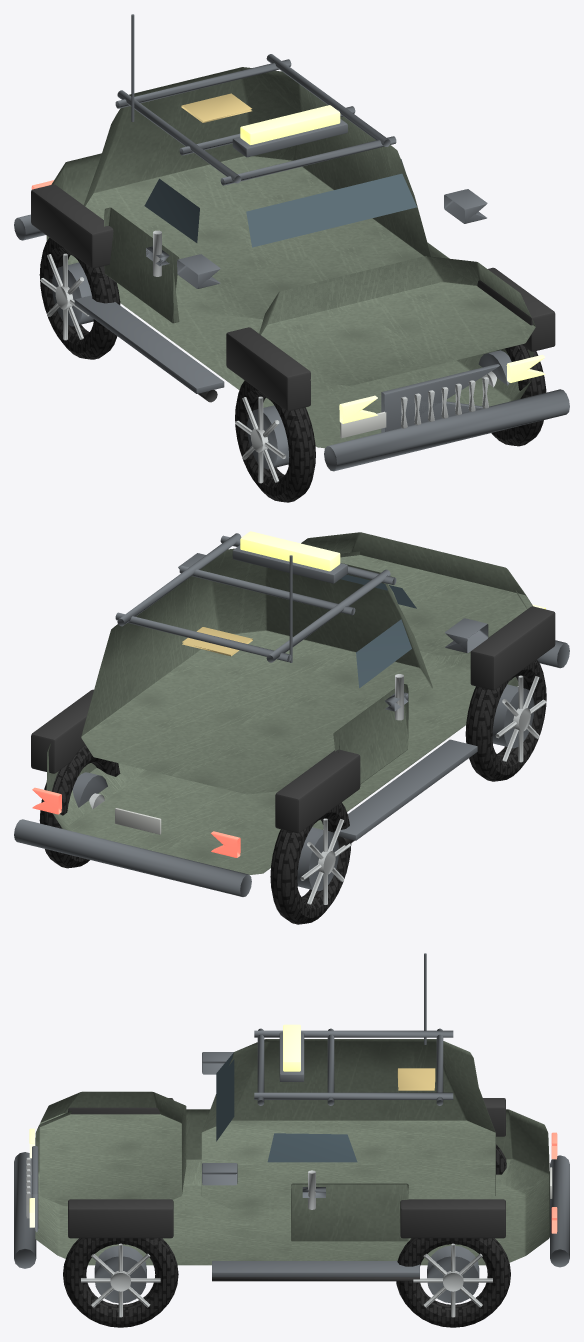
File: javali_vb4.glb
3 views of the same model, one above another, from view 1: azimuth 30°, elevation 25°; view 2: azimuth 150°, elevation 25°; view 3: azimuth 270°, elevation 25° (orthographic). The views are drawn at different scales.
Parts seen in each view (by area): view 1: javali_vb4_paint_olive, javali_vb4_steel_dark, javali_vb4_rubber_v, javali_vb4_tire, javali_vb4_glass_tinted, javali_vb4_metal_brushed, javali_vb4_lamp_amber, javali_vb4_gold_v, javali_vb4_ceramic; view 2: javali_vb4_paint_olive, javali_vb4_steel_dark, javali_vb4_rubber_v, javali_vb4_tire, javali_vb4_metal_brushed, javali_vb4_glass_tinted, javali_vb4_lamp_amber, javali_vb4_lamp_red, javali_vb4_gold_v, javali_vb4_ceramic; view 3: javali_vb4_paint_olive, javali_vb4_steel_dark, javali_vb4_rubber_v, javali_vb4_tire, javali_vb4_glass_tinted, javali_vb4_metal_brushed, javali_vb4_lamp_amber, javali_vb4_gold_v.
Boxes of the visible parts, x1=… form: javali_vb4_paint_olive: x1=46, y1=67, x2=535, y2=448; javali_vb4_steel_dark: x1=14, y1=14, x2=569, y2=471; javali_vb4_rubber_v: x1=31, y1=184, x2=555, y2=411; javali_vb4_tire: x1=39, y1=237, x2=546, y2=502; javali_vb4_glass_tinted: x1=144, y1=159, x2=416, y2=247; javali_vb4_metal_brushed: x1=40, y1=230, x2=496, y2=483; javali_vb4_lamp_amber: x1=240, y1=105, x2=545, y2=423; javali_vb4_gold_v: x1=181, y1=93, x2=251, y2=122; javali_vb4_ceramic: x1=340, y1=411, x2=386, y2=438; javali_vb4_paint_olive: x1=46, y1=532, x2=532, y2=874; javali_vb4_steel_dark: x1=14, y1=533, x2=569, y2=896; javali_vb4_rubber_v: x1=31, y1=606, x2=555, y2=848; javali_vb4_tire: x1=39, y1=659, x2=546, y2=924; javali_vb4_metal_brushed: x1=89, y1=674, x2=546, y2=904; javali_vb4_glass_tinted: x1=340, y1=574, x2=416, y2=687; javali_vb4_lamp_amber: x1=240, y1=531, x2=545, y2=609; javali_vb4_lamp_red: x1=32, y1=787, x2=240, y2=857; javali_vb4_gold_v: x1=182, y1=627, x2=252, y2=656; javali_vb4_ceramic: x1=115, y1=808, x2=161, y2=834; javali_vb4_paint_olive: x1=35, y1=1039, x2=549, y2=1265; javali_vb4_steel_dark: x1=14, y1=953, x2=569, y2=1303; javali_vb4_rubber_v: x1=68, y1=1098, x2=505, y2=1281; javali_vb4_tire: x1=63, y1=1144, x2=510, y2=1327; javali_vb4_glass_tinted: x1=216, y1=1052, x2=357, y2=1162; javali_vb4_metal_brushed: x1=26, y1=1157, x2=492, y2=1317; javali_vb4_lamp_amber: x1=29, y1=1024, x2=300, y2=1227; javali_vb4_gold_v: x1=397, y1=1068, x2=435, y2=1090.
Bounding box in the file's own units: 2.57 × 2.9 × 5.
10 materials, 2 textured.
